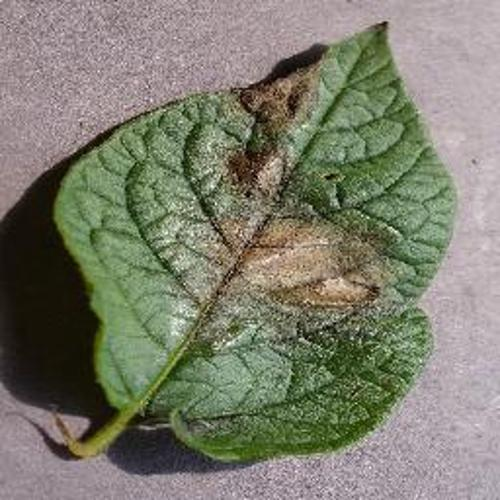Potato: (53, 22, 456, 463)
